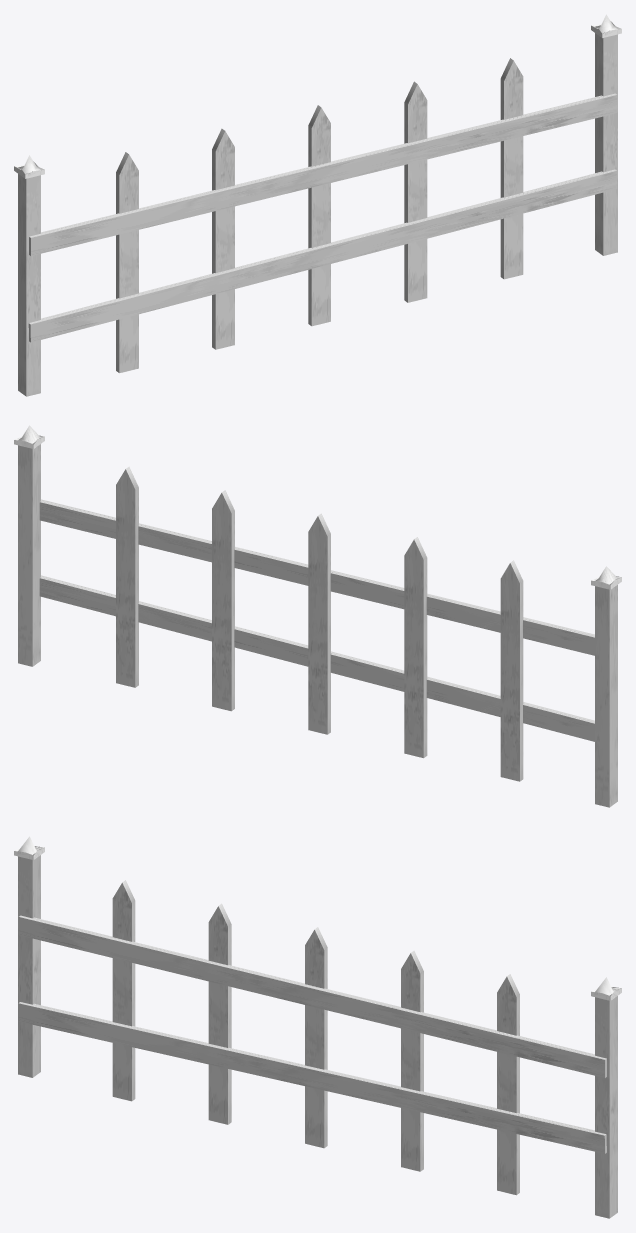
File: Fence.fbx
3 views of the same model, one above another, from view 1: azimuth 30°, elevation 25°; view 2: azimuth 150°, elevation 25°; view 3: azimuth 330°, elevation 25° (orthographic).
Parts seen in each view (by area): view 1: pCube3, pCube4, pCube2, pCube1, pCube6, pCube5, pCube8, pCube7, pCube9; view 2: pCube3, pCube4, pCube2, pCube1, pCube9, pCube8, pCube7, pCube5, pCube6; view 3: pCube4, pCube3, pCube1, pCube2, pCube8, pCube9, pCube6, pCube7, pCube5.
Part boxes in pixels (x1,y1,x2,y2): pCube3: (28,169,617,342); pCube4: (29,93,617,255); pCube2: (14,155,44,396); pCube1: (591,14,621,255); pCube6: (404,81,427,302); pCube5: (500,58,523,279); pCube8: (212,128,234,349); pCube7: (308,105,330,326); pCube9: (116,152,138,373); pCube3: (39,575,594,741); pCube4: (39,499,594,655); pCube2: (591,566,621,807); pCube1: (14,425,44,666); pCube9: (500,560,523,781); pCube8: (404,537,427,758); pCube7: (308,513,330,734); pCube5: (116,466,138,687); pCube6: (212,490,234,711); pCube4: (18,915,606,1077); pCube3: (18,1002,606,1153); pCube1: (591,977,621,1218); pCube2: (14,836,44,1077); pCube8: (208,903,231,1124); pCube9: (112,880,135,1101); pCube6: (401,950,423,1171); pCube7: (305,927,327,1148); pCube5: (497,974,519,1195).
Bounding box in the file's own units: 6.21 × 2.35 × 0.2124.
Materials: 1 (1 with a texture image).
